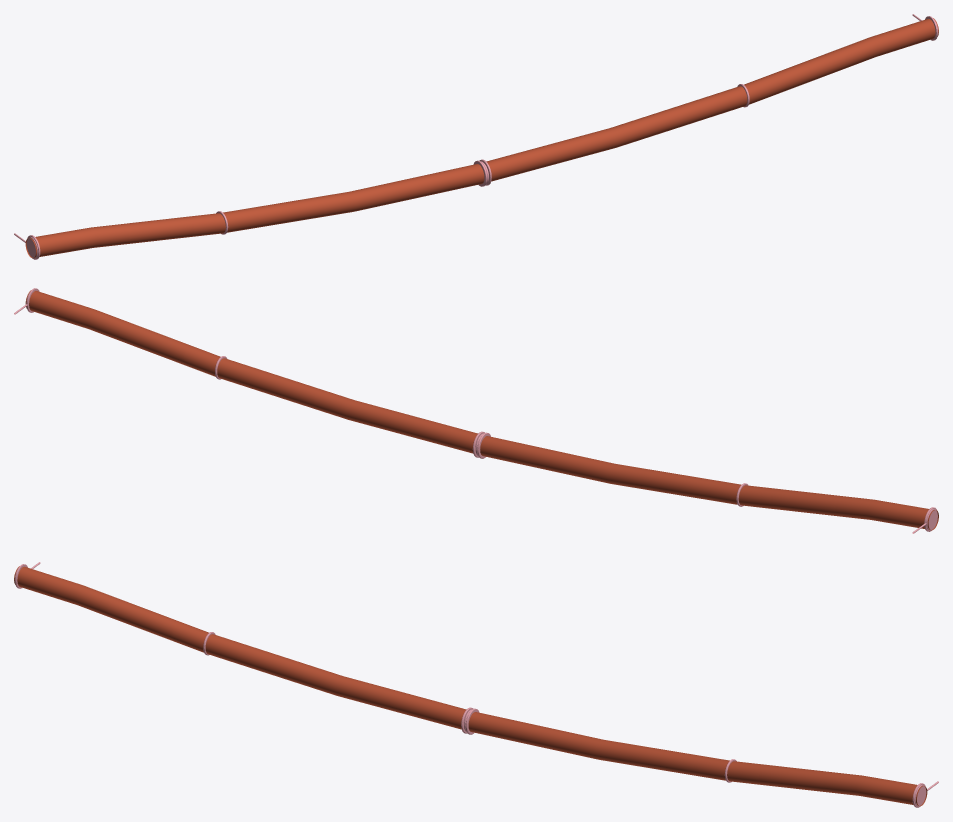
The model's file is SM_Câble_A.fbx.
3 renders of one model, top to bottom at view 1: azimuth 30°, elevation 25°; view 2: azimuth 150°, elevation 25°; view 3: azimuth 330°, elevation 25°, orthographic.
Parts seen in each view (by area): view 1: Câble_A; view 2: Câble_A; view 3: Câble_A.
Part boxes in pixels (x1,y1,x2,y2): Câble_A: (14, 14, 938, 259); Câble_A: (14, 288, 938, 533); Câble_A: (14, 562, 938, 807).
Size of the model in its own units: 100 by 6.22 by 4.8.
